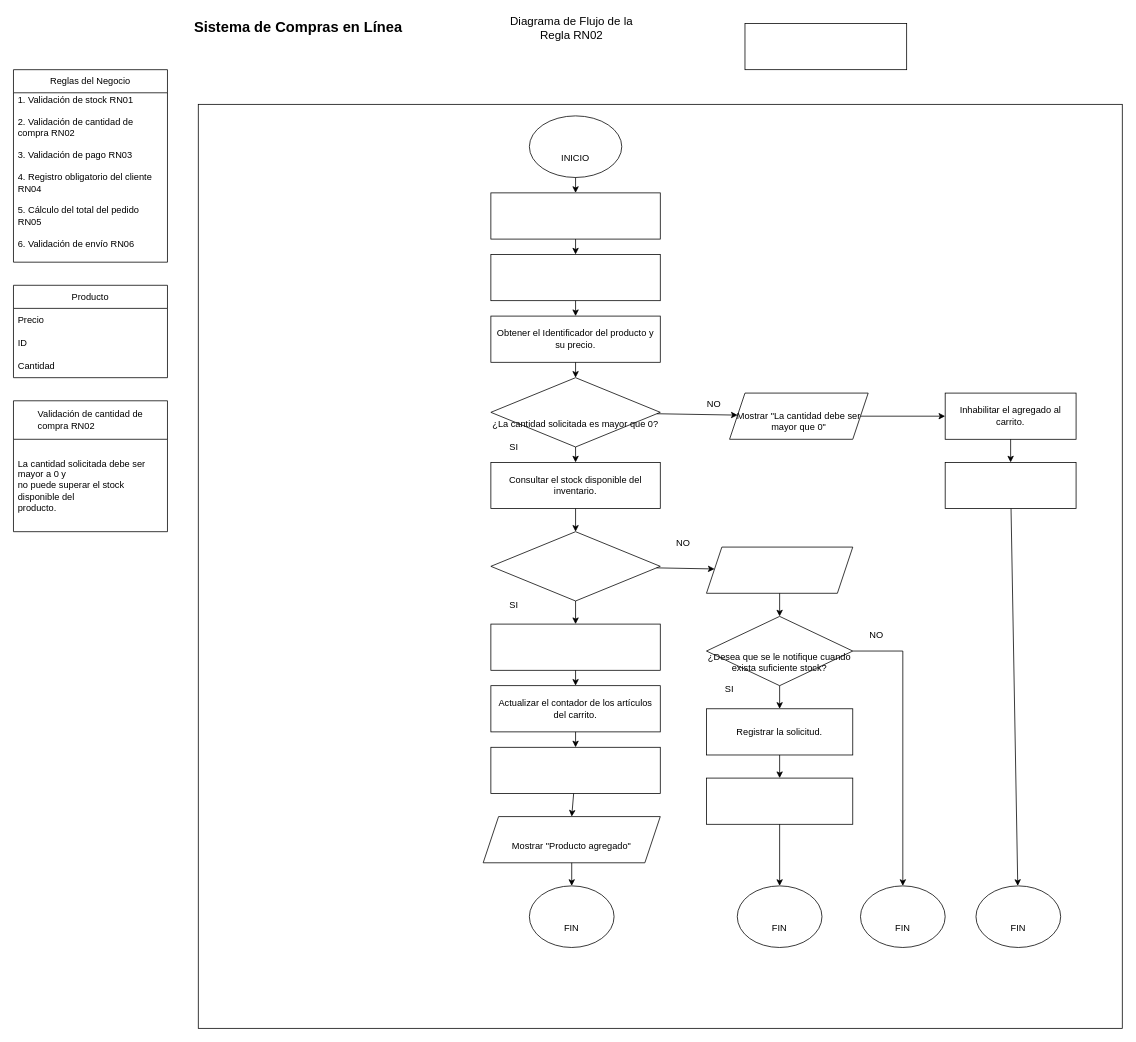
Image size: 1136x1042. Some labels were removed from this diagram. Each missing label, with the centre of its shape:
Guardar los datos en la sesión del cliente.: [575,770]
MODULO CARRITO: [825,46]
Mostrar "La cantidad solicitada supera el stock disponible": [779,569]
Notificar al cliente cuando haya suficiente stock.: [779,800]
Registrar el producto en el carrito (ID y la cantidad).: [575,646]
Regresar al catálogo: [1010,485]
Seleccionar el producto.: [575,215]
Seleccionar la cantidad.: [575,277]
¿La cantidad solicitada es menor o igual a la existente en el stock?: [575,566]
